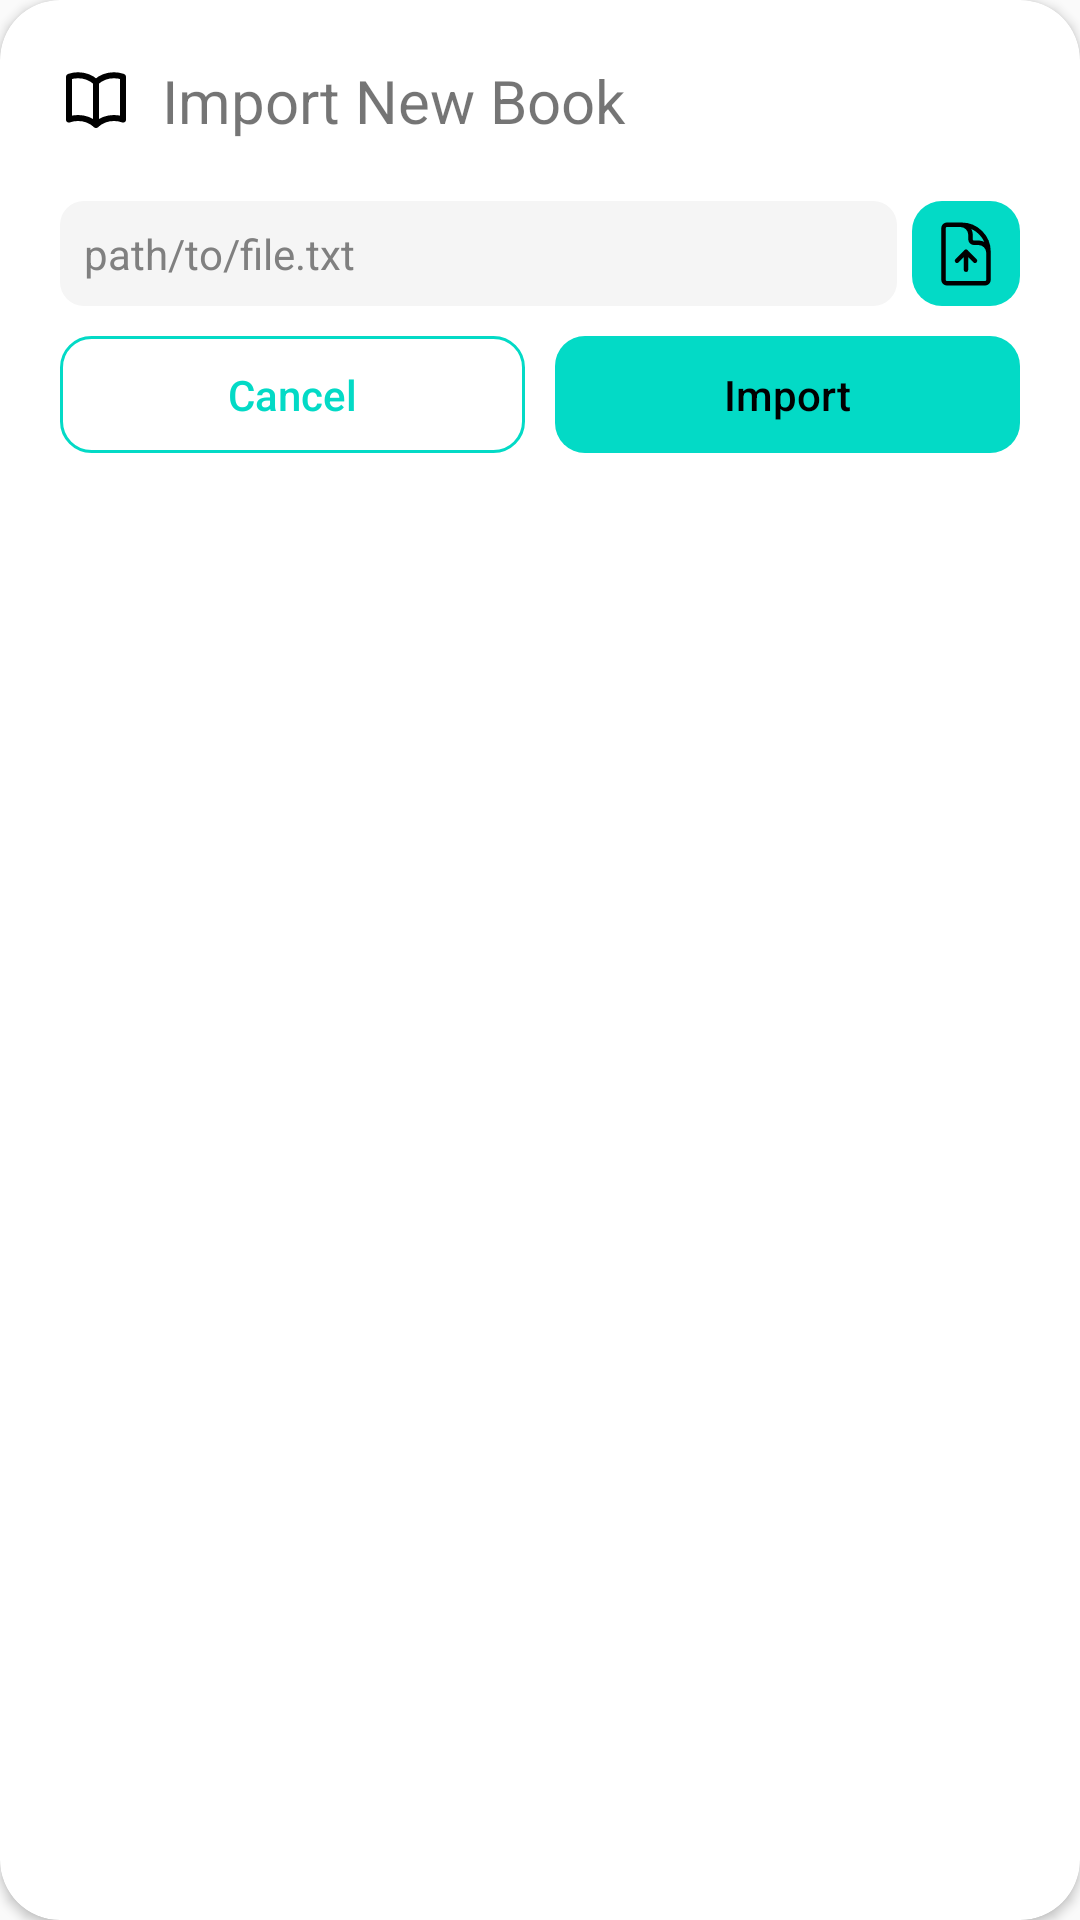

Named icons in this screenshot (1080 × 1920) and their bounding boxes, detection(x1, y1, x2, y2):
books: detection(66, 72, 126, 128)
upload file: detection(912, 201, 1020, 306)
